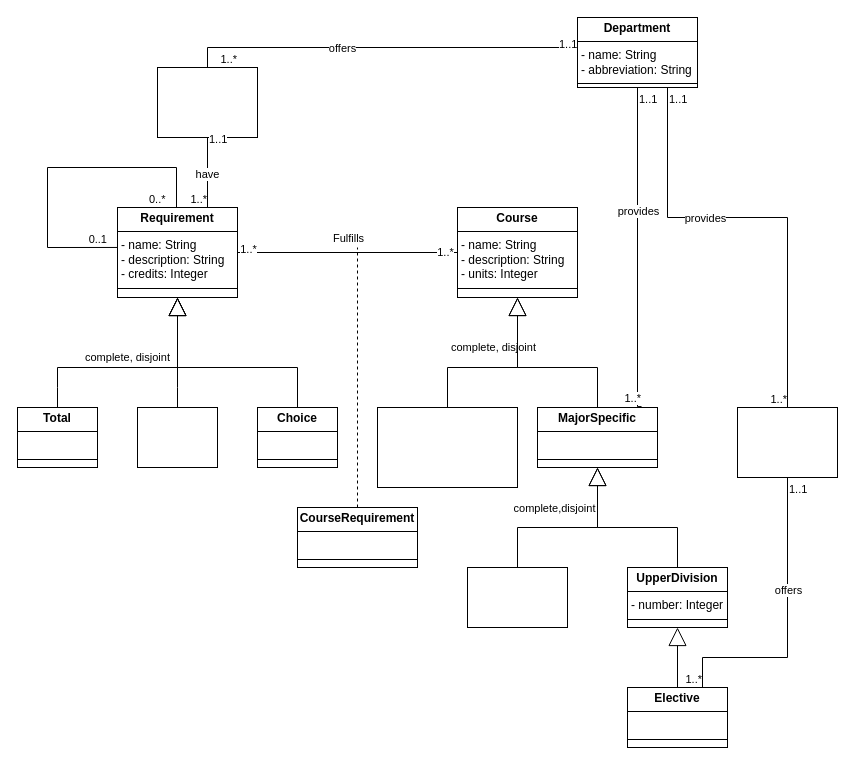
The diagram is 855 pixels wide and 783 high, and some of its shapes have lost their labels. The box of each missing label's shape, as (x1, y1, x2, y2) in pixels:
FocusElective - name: str - description: str: (736, 406, 838, 478)
GeneralEducation - department: String - courseNumber: Integer: (376, 406, 518, 488)
LowerDivision - number: Integer: (466, 566, 568, 628)
Major - name: str - description: str: (156, 66, 258, 138)
Mandatory: (136, 406, 218, 468)
